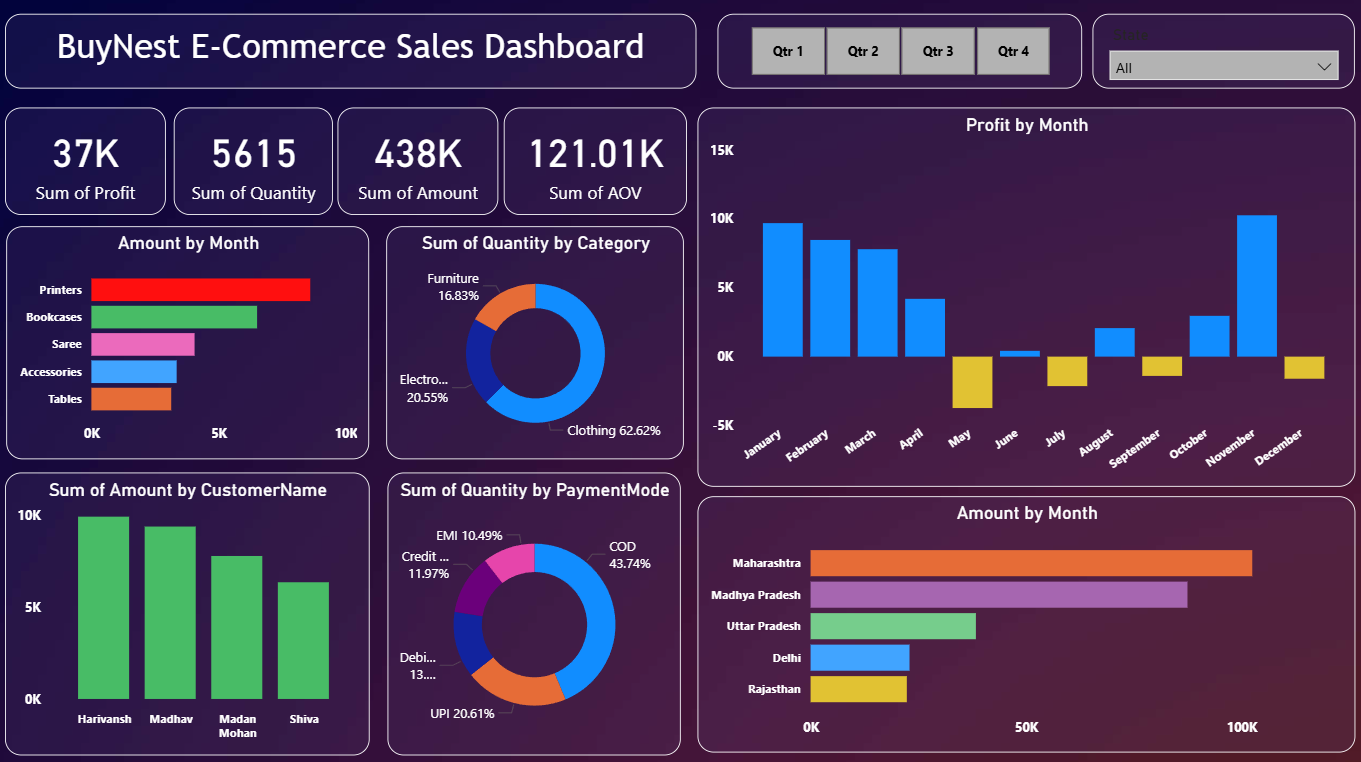

The page's visual inventory and layout, read from the dashboard file:
{"tool":"powerbi","page":{"name":"Page 1","canvas":[1280,720],"ordinal":0},"visuals":[{"type":"textbox","box":[9.6,17.8,643.6,70],"z":0},{"type":"columnChart","title":"Profit by Month","fields":{"Category":["Orders.Order Date.Variation.Date Hierarchy.Month"],"Y":["Sum(Details.Profit)"]},"box":[653.2,104.3,612,352.7],"z":1000},{"type":"barChart","title":" Amount by Month","fields":{"Category":["Details.Sub-Category"],"Y":["Sum(Details.Profit)"]},"box":[11,215.4,337.6,216.8],"z":2000},{"type":"donutChart","fields":{"Y":["Sum(Details.Quantity)"],"Category":["Details.Category"]},"box":[363.6,215.4,277.2,216.8],"z":3000},{"type":"donutChart","fields":{"Y":["Sum(Details.Quantity)"],"Category":["Details.PaymentMode"]},"box":[365,444.6,273.1,263.5],"z":4000},{"type":"card","fields":{"Values":["Sum(Details.Amount)"]},"box":[318.4,104.3,149.6,100.2],"z":5000},{"type":"card","fields":{"Values":["Sum(Details.Quantity)"]},"box":[166,104.3,148.2,100.2],"z":6000},{"type":"card","fields":{"Values":["Sum(Details.Profit)"]},"box":[9.6,104.3,149.6,100.2],"z":7000},{"type":"card","fields":{"Values":["Sum(Details.AOV)"]},"box":[473.4,104.3,170.2,100.2],"z":8000},{"type":"barChart","title":" Amount by Month","fields":{"Category":["Orders.State"],"Y":["Sum(Details.Amount)"]},"box":[653.2,466.6,612,238.8],"z":9000},{"type":"columnChart","fields":{"Category":["Orders.CustomerName"],"Y":["Sum(Details.Amount)"]},"box":[9.6,444.6,338.9,263.5],"z":10000},{"type":"slicer","fields":{"Values":["Orders.Order Date.Variation.Date Hierarchy.Quarter"]},"box":[672.4,17.8,338.9,70],"z":11000},{"type":"slicer","fields":{"Values":["Orders.State"]},"box":[1020.9,17.8,244.3,70],"z":12000}]}

Visuals, with their boxes in screenshot pixels (x1, y1, x2, y2), scaled from the page's 1280x720 canvas onto the 1361x762 screenshot:
textbox: pyautogui.locateOnScreen(10, 19, 695, 93)
"Profit by Month" columnChart: pyautogui.locateOnScreen(695, 110, 1345, 484)
" Amount by Month" barChart: pyautogui.locateOnScreen(12, 228, 371, 457)
donutChart - Sum(Details.Quantity) x Details.Category: pyautogui.locateOnScreen(387, 228, 681, 457)
donutChart - Sum(Details.Quantity) x Details.PaymentMode: pyautogui.locateOnScreen(388, 471, 678, 749)
card - Sum(Details.Amount): pyautogui.locateOnScreen(339, 110, 498, 216)
card - Sum(Details.Quantity): pyautogui.locateOnScreen(177, 110, 334, 216)
card - Sum(Details.Profit): pyautogui.locateOnScreen(10, 110, 169, 216)
card - Sum(Details.AOV): pyautogui.locateOnScreen(503, 110, 684, 216)
" Amount by Month" barChart: pyautogui.locateOnScreen(695, 494, 1345, 747)
columnChart - Orders.CustomerName x Sum(Details.Amount): pyautogui.locateOnScreen(10, 471, 371, 749)
slicer - Orders.Order Date.Variation.Date Hierarchy.Quarter: pyautogui.locateOnScreen(715, 19, 1075, 93)
slicer - Orders.State: pyautogui.locateOnScreen(1086, 19, 1345, 93)
